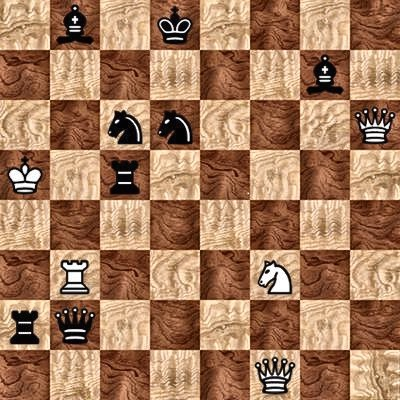black-bishop: (50, 0, 100, 50), (300, 50, 350, 100)
black-king: (150, 0, 200, 50)
black-knight: (100, 100, 150, 150), (150, 100, 200, 150)
black-queen: (50, 300, 100, 350)
black-rook: (100, 150, 150, 200), (0, 300, 50, 350)
white-king: (0, 150, 50, 200)
white-knight: (250, 250, 300, 300)
white-queen: (350, 100, 400, 150), (250, 350, 300, 400)
white-rook: (50, 250, 100, 300)
